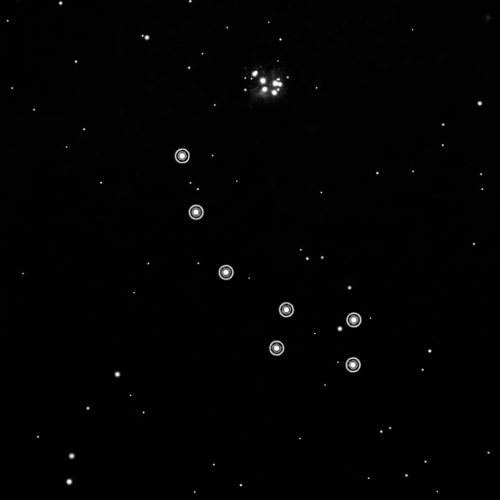ursa_minor: (169, 144, 369, 378)
